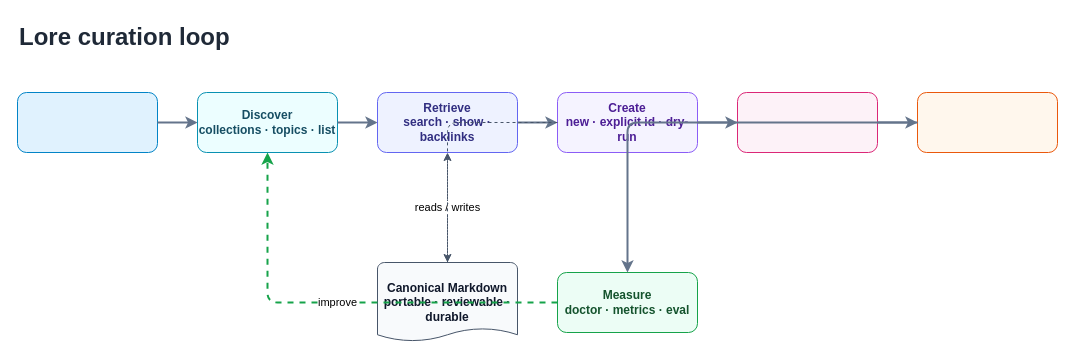
Image size: 1075x360. Some labels were removed from this diagram. The shapes that lost their labels are listed below. From the top down, each one's centre as x and y in pixels, then its label:
pixel 87 122: Initialize init · validate
pixel 807 122: Curate topic · classify · rename
pixel 987 122: Consolidate relate · compact · supersede
